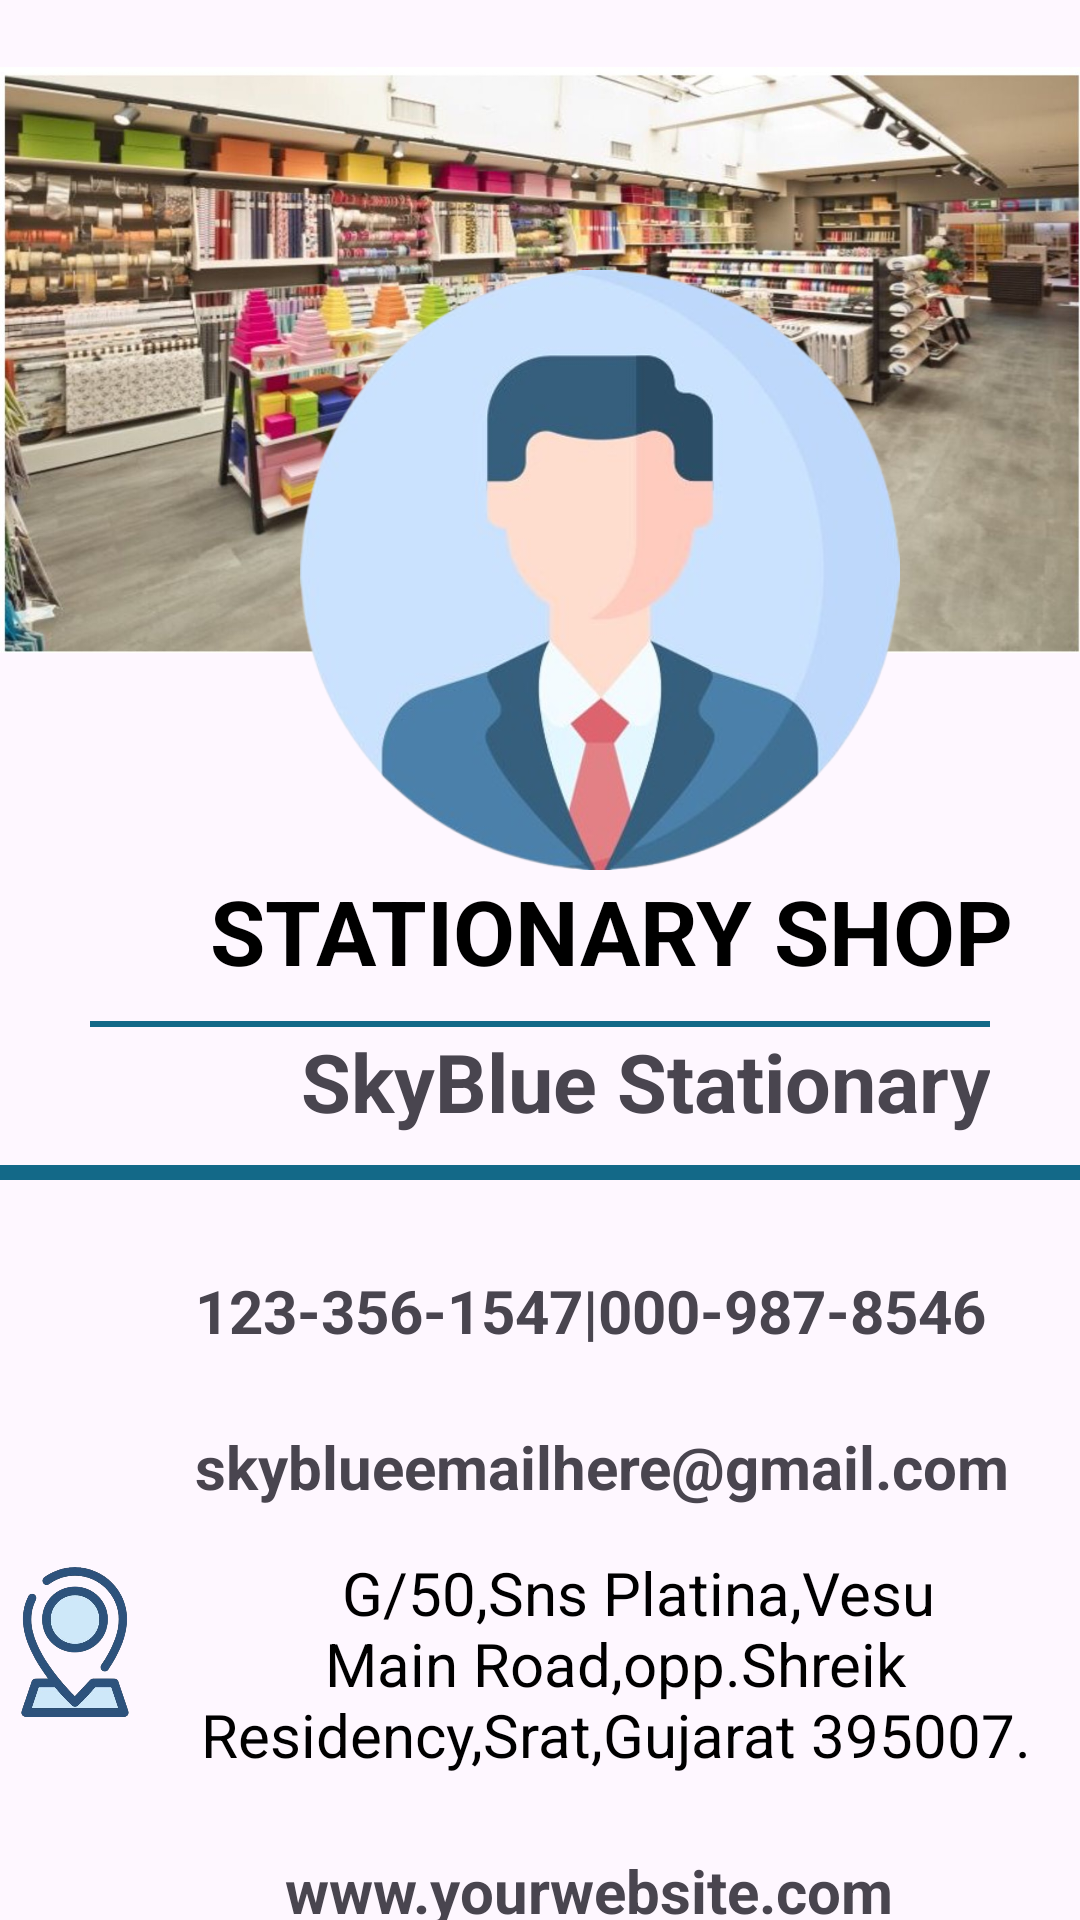

Named icons in this screenshot (1080 × 1920) and their bounding boxes, (x1,y1,x2,y2):
location: (21,1567,129,1717)
